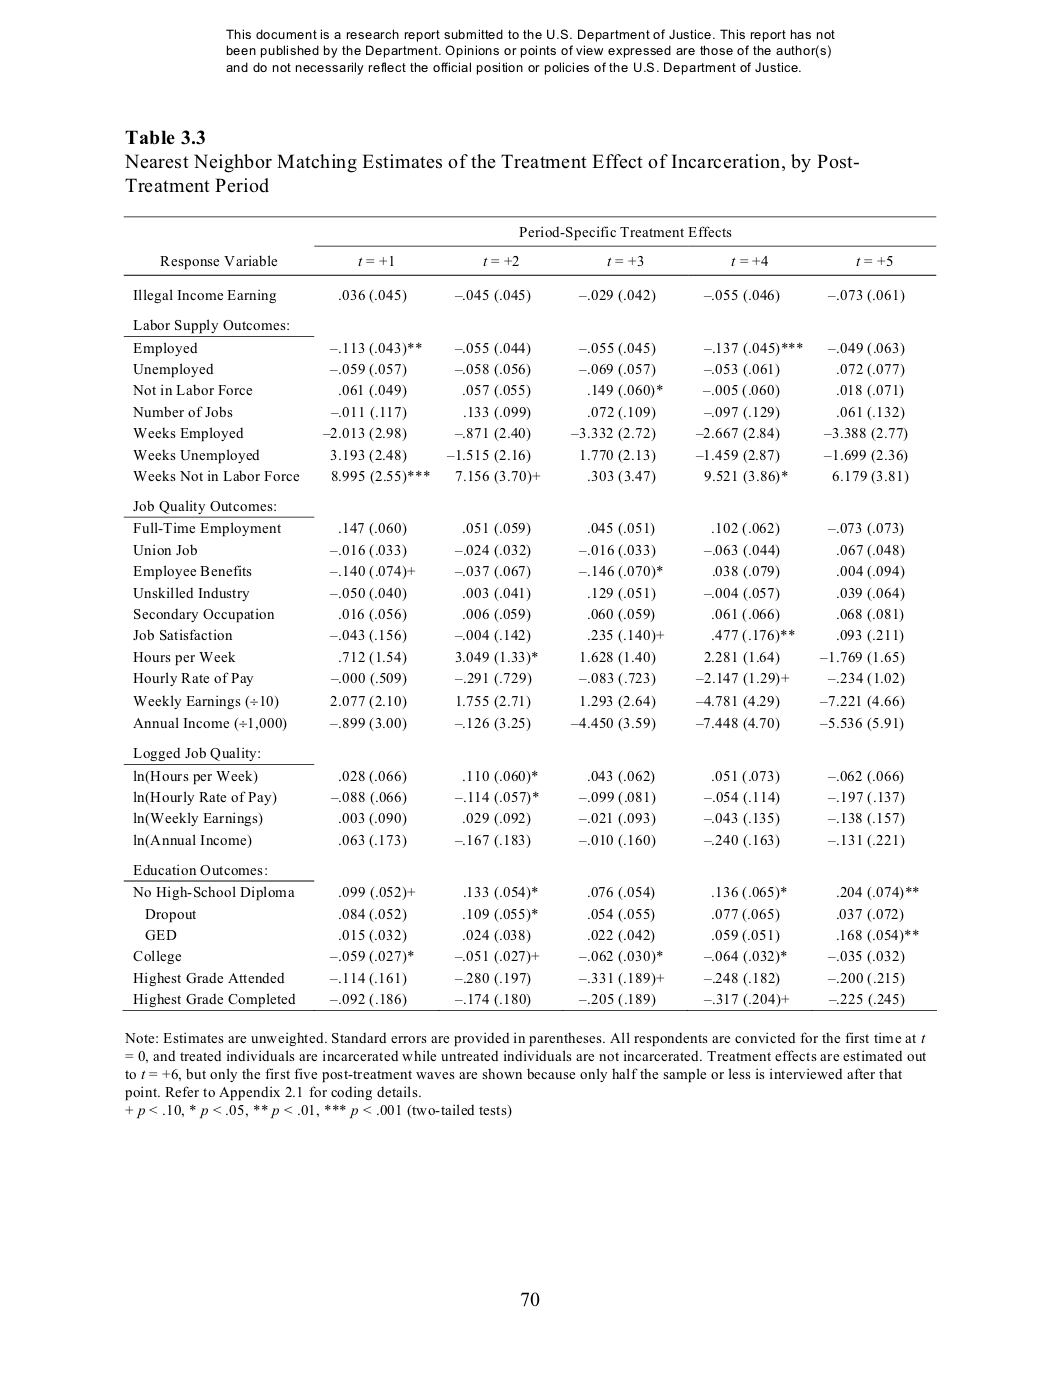Table: (121, 216, 936, 1010)
